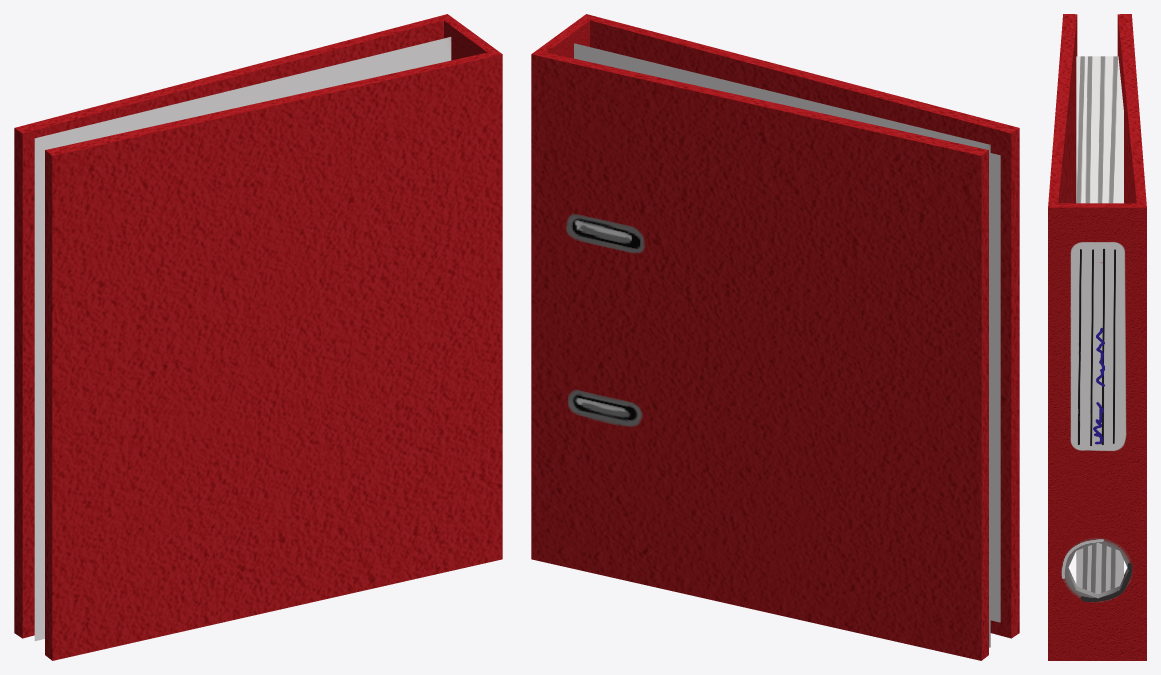
The model's file is binder.glb.
The picture shows the model from 3 angles, left to right: view 1: azimuth 30°, elevation 25°; view 2: azimuth 150°, elevation 25°; view 3: azimuth 270°, elevation 25°; orthographic projection. The views are drawn at different scales.
Parts seen in each view (by area): view 1: Binder; view 2: Binder; view 3: Binder.
Boxes of the visible parts, bbox=[...] form: Binder: bbox=[14, 14, 502, 660]; Binder: bbox=[531, 14, 1019, 660]; Binder: bbox=[1048, 14, 1146, 660].
Size of the model in its own units: 0.4508 by 0.4923 by 0.0974.
1 material, 1 textured.
